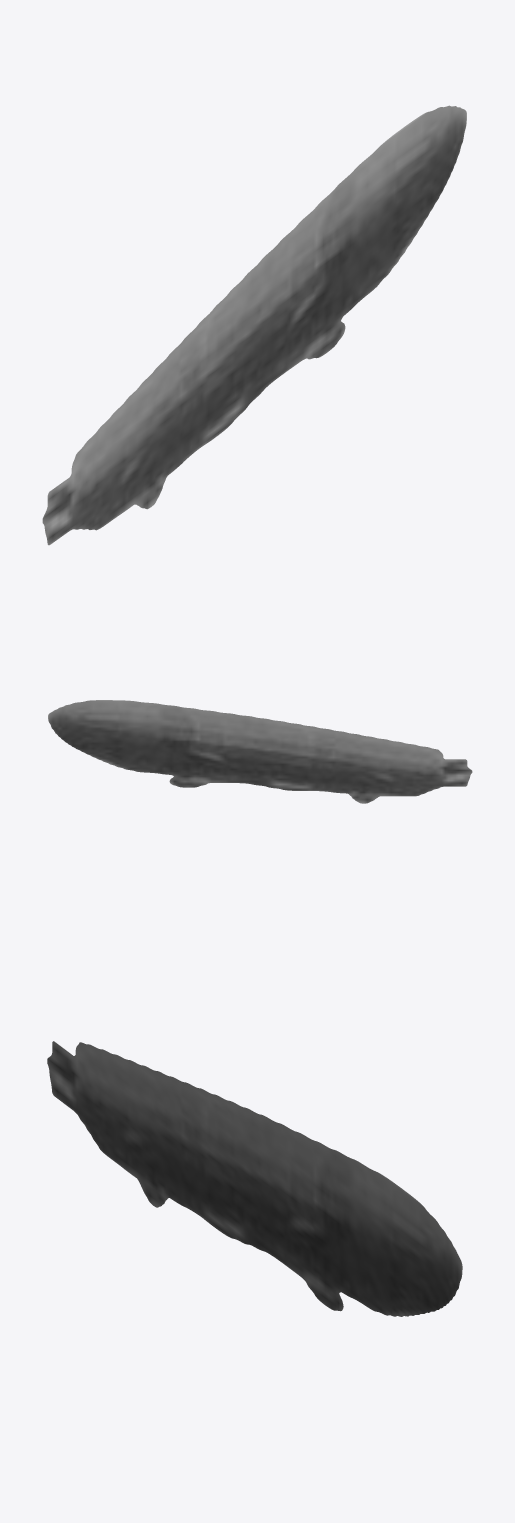
The model's file is Old_Zepelin.FBX.
The picture shows the model from 3 angles, top to bottom: view 1: azimuth 30°, elevation 25°; view 2: azimuth 150°, elevation 25°; view 3: azimuth 270°, elevation 25°; orthographic projection. The views are drawn at different scales.
Parts seen in each view (by area): view 1: zeppelin; view 2: zeppelin; view 3: zeppelin.
Part boxes in pixels (left/top/right/bottom): zeppelin: left=42, top=105, right=466, bottom=545; zeppelin: left=48, top=700, right=472, bottom=803; zeppelin: left=47, top=1041, right=462, bottom=1316.
Size of the model in its own units: 2616 by 1000 by 1468.
Materials: 1 (1 with a texture image).
